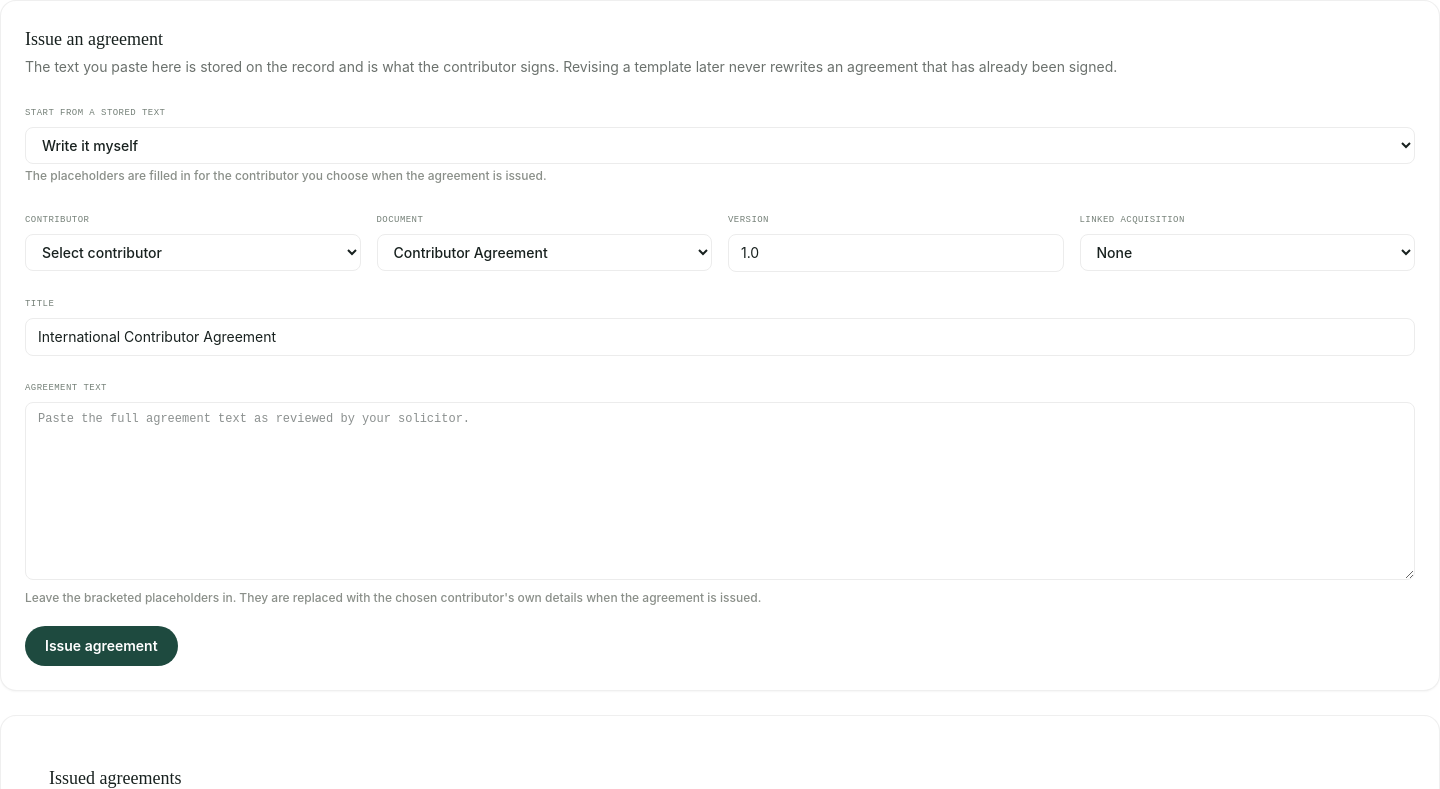
Scenario: AgreementsPanel › fills the form when a stored text is chosen
Expected: the text "Start from a stored text" is shown, [25,108,165,118]
Step 1. Select "International Contributor Agreement · v1.0 (current)" in the 1st dropdown → [720, 146], box [25,127,1415,164]
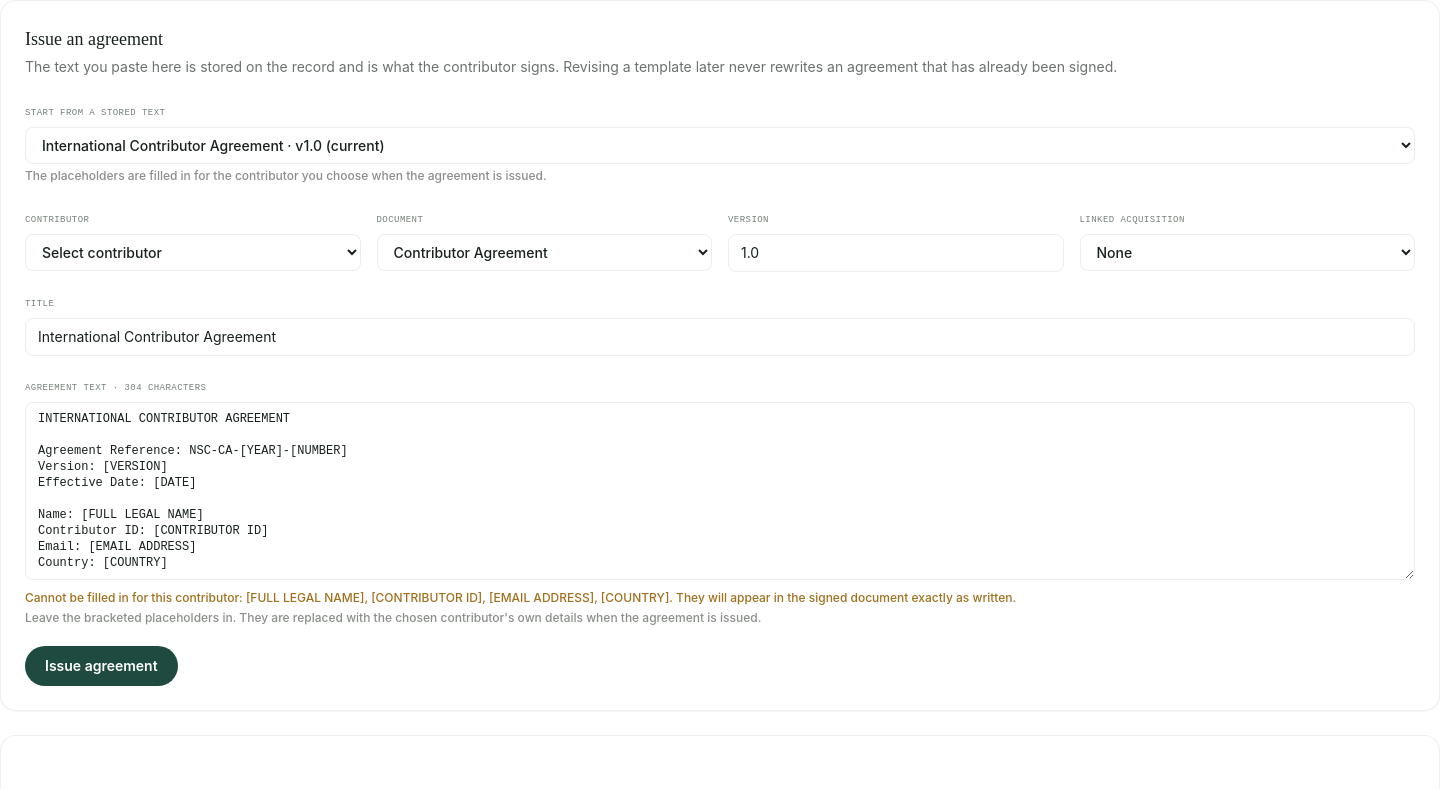
Expected: the text "Agreement text · 304 characters" is shown, [25,383,206,393]
